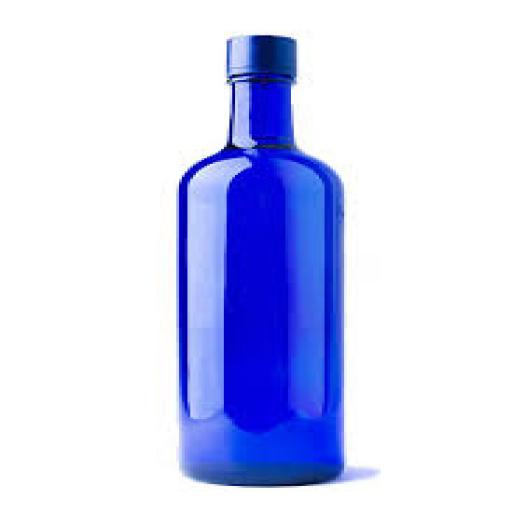blue-bottle: (179, 37, 341, 484), (179, 37, 341, 482)
